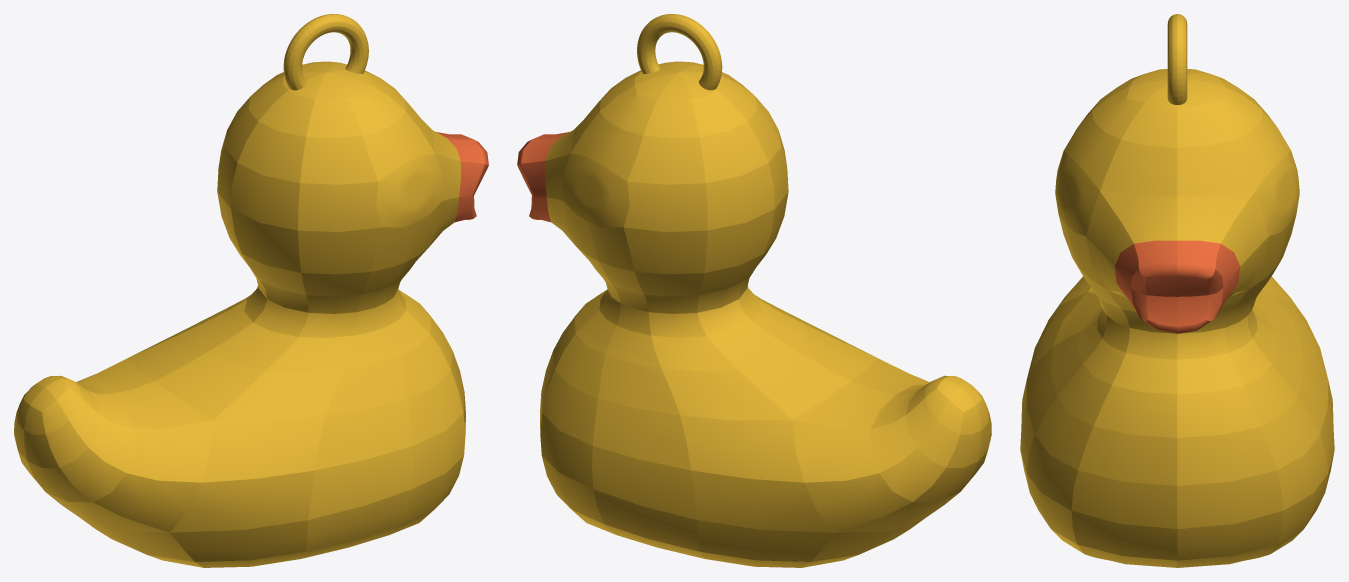
File: DUCK.fbx
3 renders of one model, left to right at view 1: azimuth 30°, elevation 25°; view 2: azimuth 150°, elevation 25°; view 3: azimuth 270°, elevation 25°, orthographic. The views are drawn at different scales.
Visible parts, largest first — view 1: Rubber_Duck; view 2: Rubber_Duck; view 3: Rubber_Duck.
Part boxes in pixels (left/top/right/bottom): Rubber_Duck: left=14, top=14, right=488, bottom=567; Rubber_Duck: left=517, top=14, right=991, bottom=567; Rubber_Duck: left=1020, top=14, right=1334, bottom=567.
Bounding box in the file's own units: 18.61 × 19.24 × 10.58.
